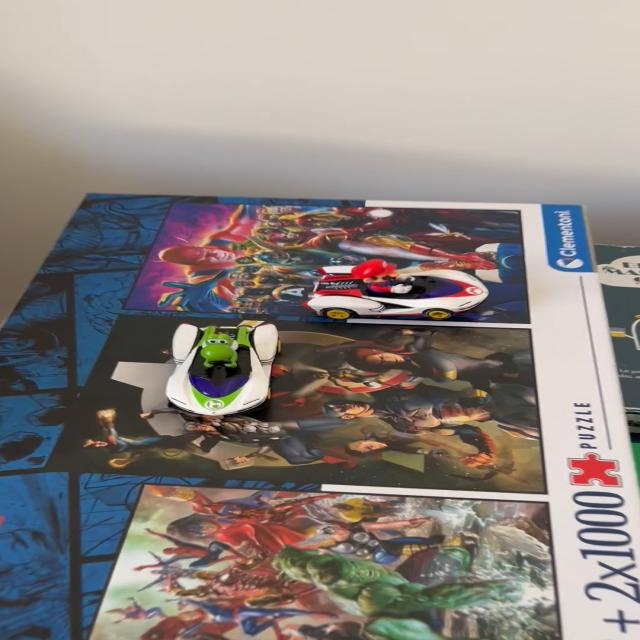mario: (293, 258, 499, 326)
yoshi: (152, 315, 286, 423)
